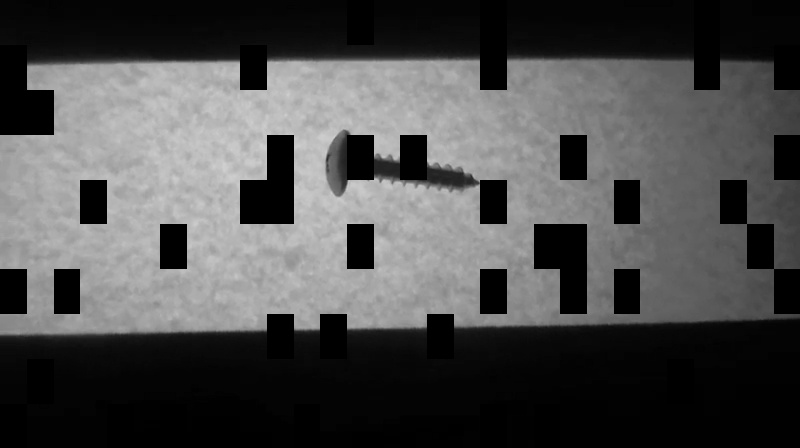S003: (320, 127, 482, 197)
